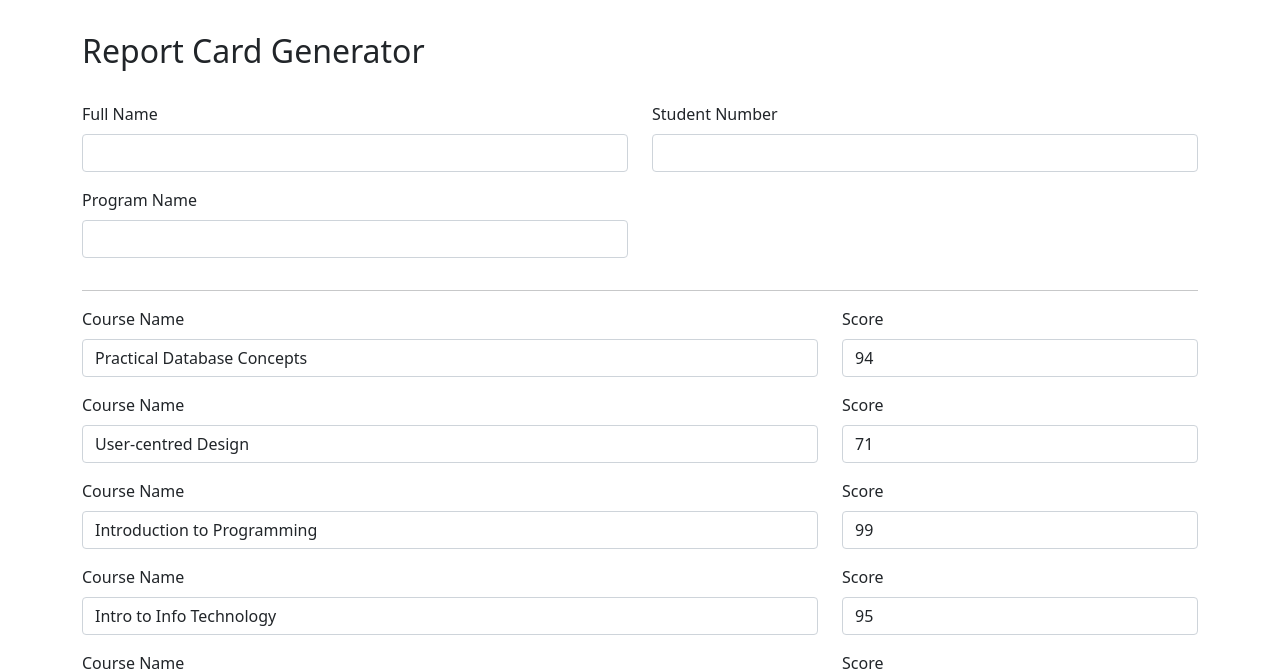
fill wrong input and expect an error
Type "example of a bad name" into the field named "full_name" at (355, 153), box [82, 134, 628, 172]
(page scrolled)
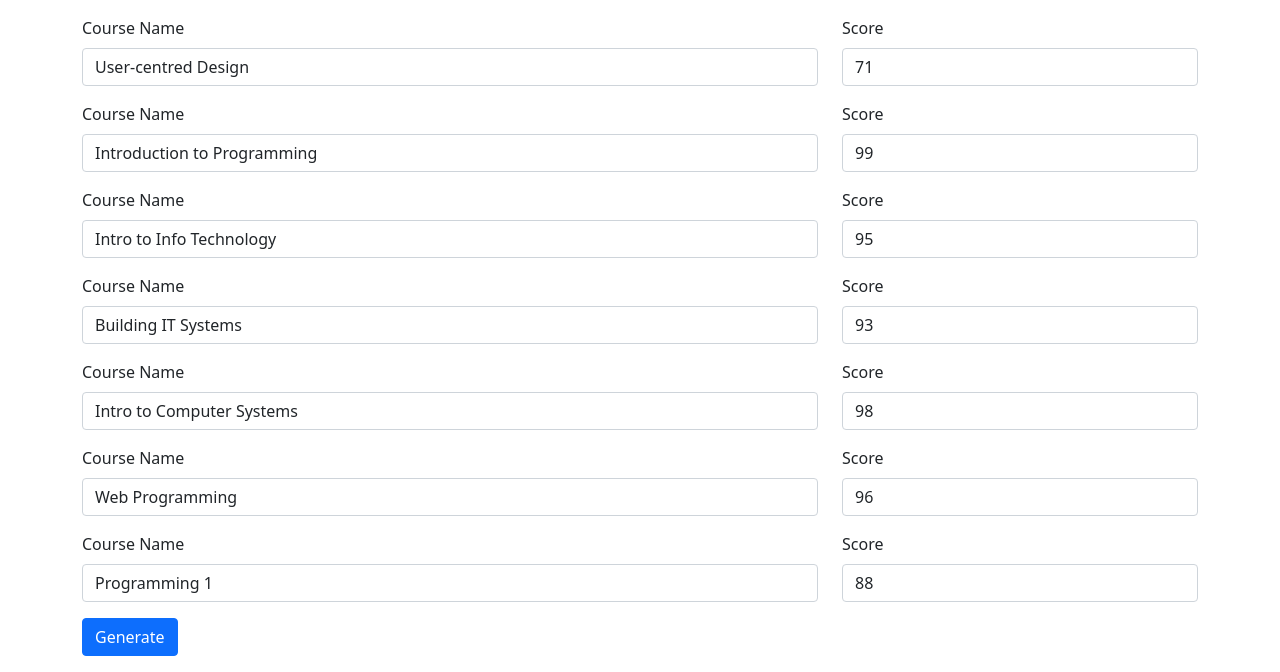
Click the button "Generate" at (130, 637), box [82, 618, 178, 656]
(page scrolled)
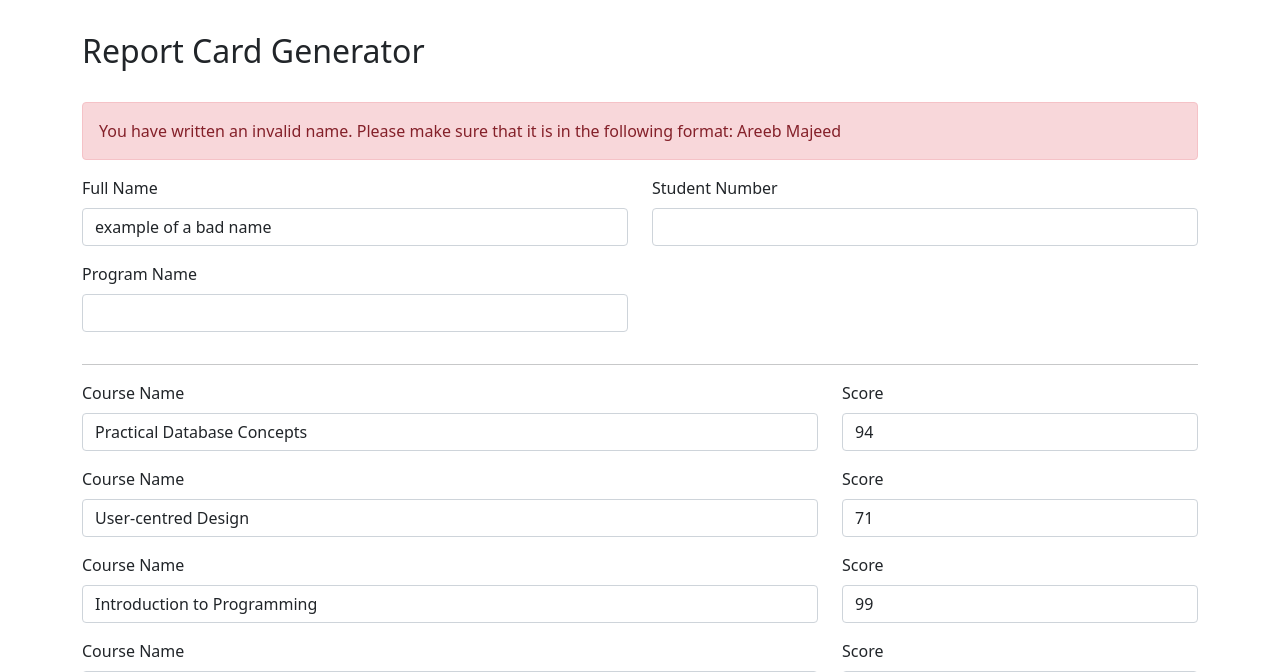
Now the text "You have written an invalid name. Please make sure that it is in the following format: Areeb Majeed" is shown, box [99, 120, 841, 142]
